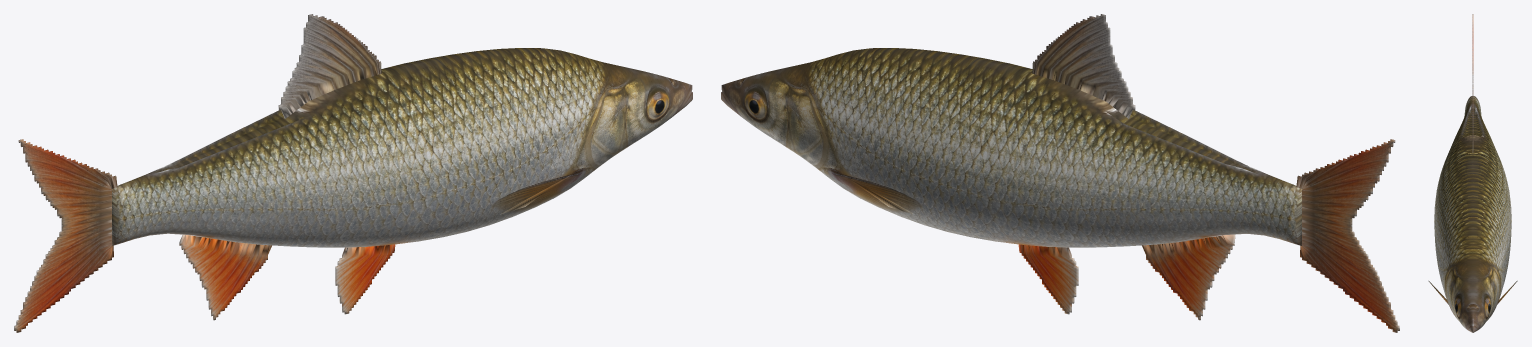
File: ide.glb
3 renders of one model, left to right at view 1: azimuth 30°, elevation 25°; view 2: azimuth 150°, elevation 25°; view 3: azimuth 270°, elevation 25°, orthographic. The views are drawn at different scales.
Parts seen in each view (by area): view 1: ide_realistic; view 2: ide_realistic; view 3: ide_realistic.
Part boxes in pixels (x1,y1,x2,y2): ide_realistic: (14, 14, 692, 332); ide_realistic: (721, 14, 1399, 332); ide_realistic: (1428, 14, 1517, 332).
Size of the model in its own units: 1 by 0.4336 by 0.1629.
3 materials, 3 textured.
